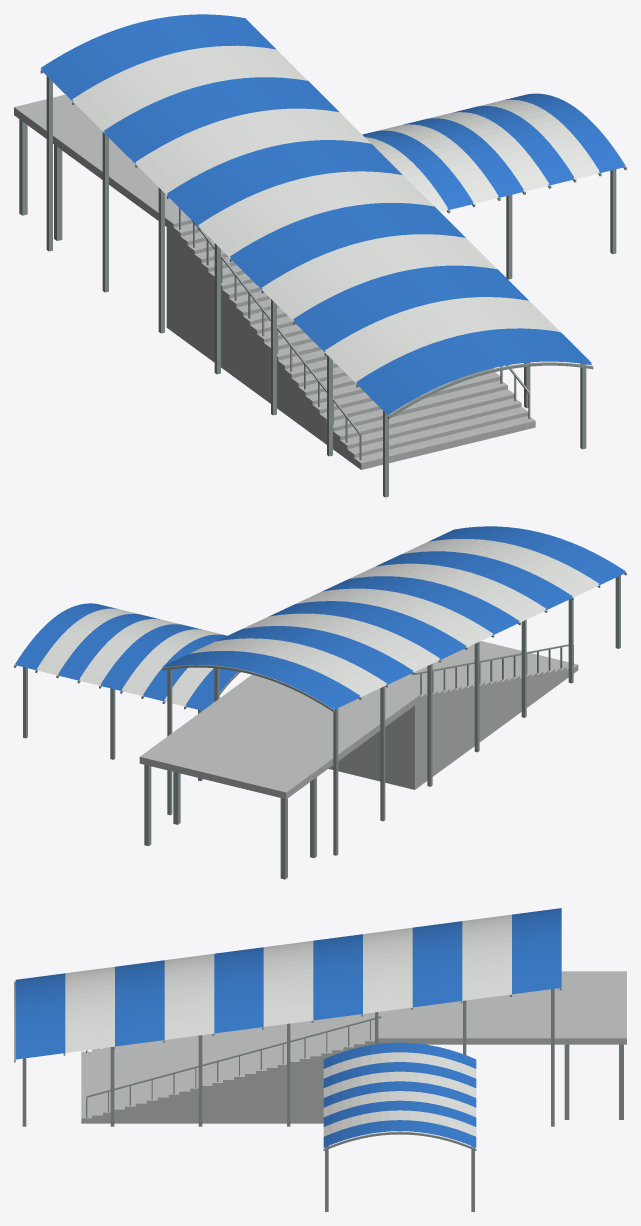
The picture shows the model from 3 angles, top to bottom: view 1: azimuth 30°, elevation 25°; view 2: azimuth 150°, elevation 25°; view 3: azimuth 270°, elevation 25°; orthographic projection. The views are drawn at different scales.
Visible parts, largest first — view 1: entry-canopy__special-blue, entry-canopy__special-white, entry-canopy__stair-main, entry-canopy__support-columns, entry-canopy__threshold-upper, entry-canopy__special-rail, entry-canopy__special-steel; view 2: entry-canopy__special-blue, entry-canopy__special-white, entry-canopy__threshold-upper, entry-canopy__stair-main, entry-canopy__support-columns, entry-canopy__special-rail, entry-canopy__special-steel; view 3: entry-canopy__special-blue, entry-canopy__special-white, entry-canopy__stair-main, entry-canopy__threshold-upper, entry-canopy__support-columns, entry-canopy__special-rail, entry-canopy__special-steel.
Part boxes in pixels (x1,y1,x2,y2): entry-canopy__special-blue: (41, 14, 624, 414); entry-canopy__special-white: (72, 45, 599, 383); entry-canopy__stair-main: (166, 214, 535, 469); entry-canopy__support-columns: (19, 76, 616, 497); entry-canopy__threshold-upper: (14, 94, 185, 226); entry-canopy__special-rail: (179, 208, 530, 460); entry-canopy__special-steel: (40, 70, 626, 418); entry-canopy__special-blue: (16, 526, 625, 710); entry-canopy__special-white: (37, 539, 599, 706); entry-canopy__threshold-upper: (139, 674, 414, 799); entry-canopy__stair-main: (328, 641, 578, 789); entry-canopy__support-columns: (23, 575, 620, 879); entry-canopy__special-rail: (414, 644, 573, 694); entry-canopy__special-steel: (14, 572, 626, 712); entry-canopy__special-blue: (15, 908, 561, 1147); entry-canopy__special-white: (65, 914, 511, 1136); entry-canopy__stair-main: (81, 1011, 386, 1123); entry-canopy__threshold-upper: (387, 971, 626, 1044); entry-canopy__support-columns: (22, 989, 623, 1211); entry-canopy__special-rail: (86, 1016, 381, 1117); entry-canopy__special-steel: (14, 981, 561, 1150).
Bounding box in the file's own units: 18.08 × 8.08 × 28.08.
5 materials, 1 textured.
